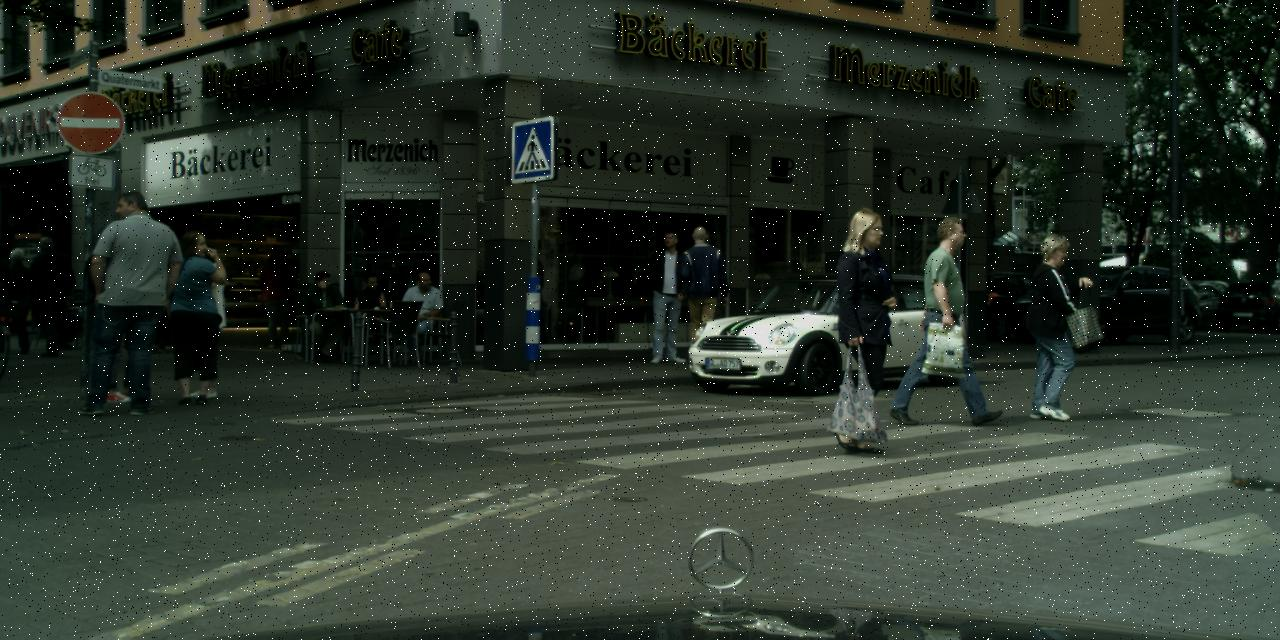ped: (813, 208, 911, 447), (79, 190, 170, 414), (906, 216, 991, 423), (1012, 234, 1087, 417), (158, 230, 228, 402), (673, 226, 729, 362), (641, 231, 694, 360), (24, 236, 74, 354), (257, 244, 298, 347), (0, 248, 41, 350)
